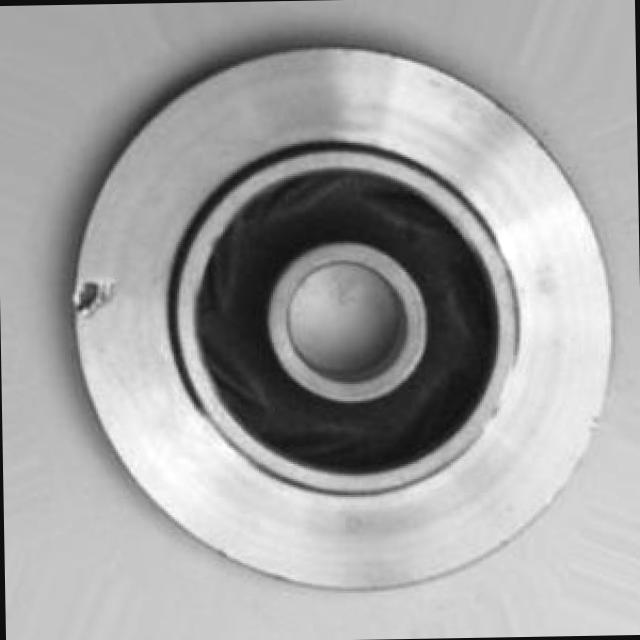Defect: (68, 274, 118, 326)
